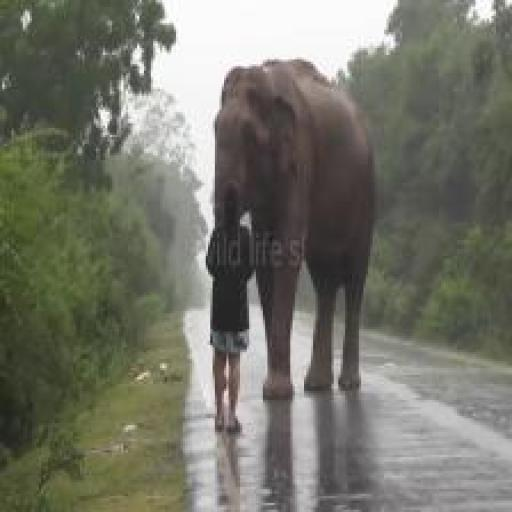Elephant: (194, 14, 397, 451)
